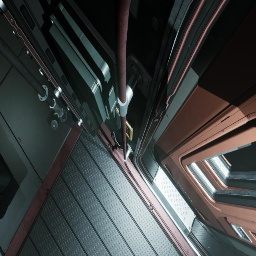EmergencyPhone ,: (113, 104, 134, 141)
